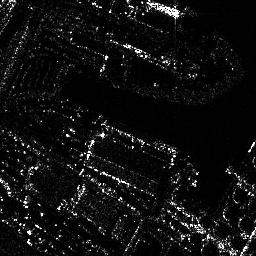ship: (148, 1, 183, 18)
